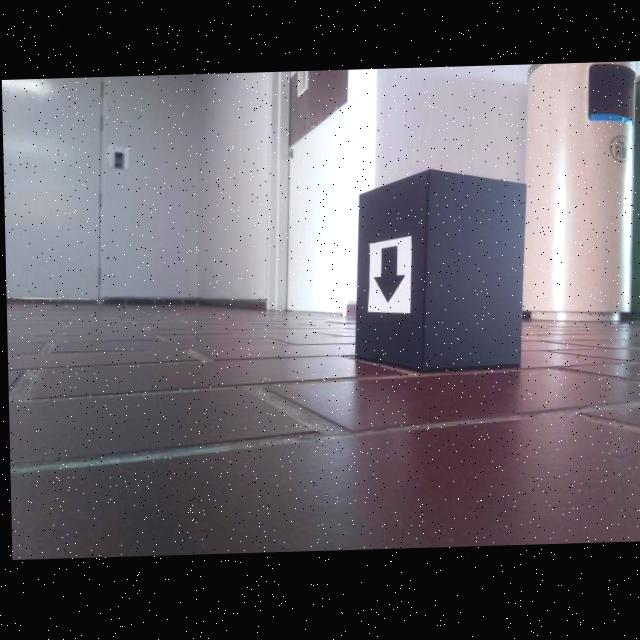DOWN: (370, 246, 404, 306)
